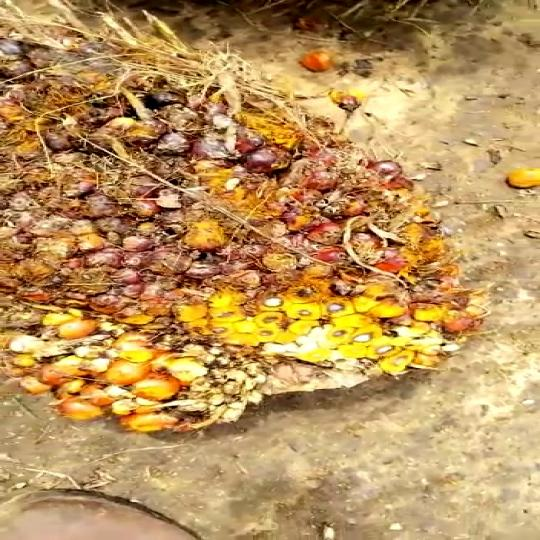masak: (0, 12, 475, 446)
